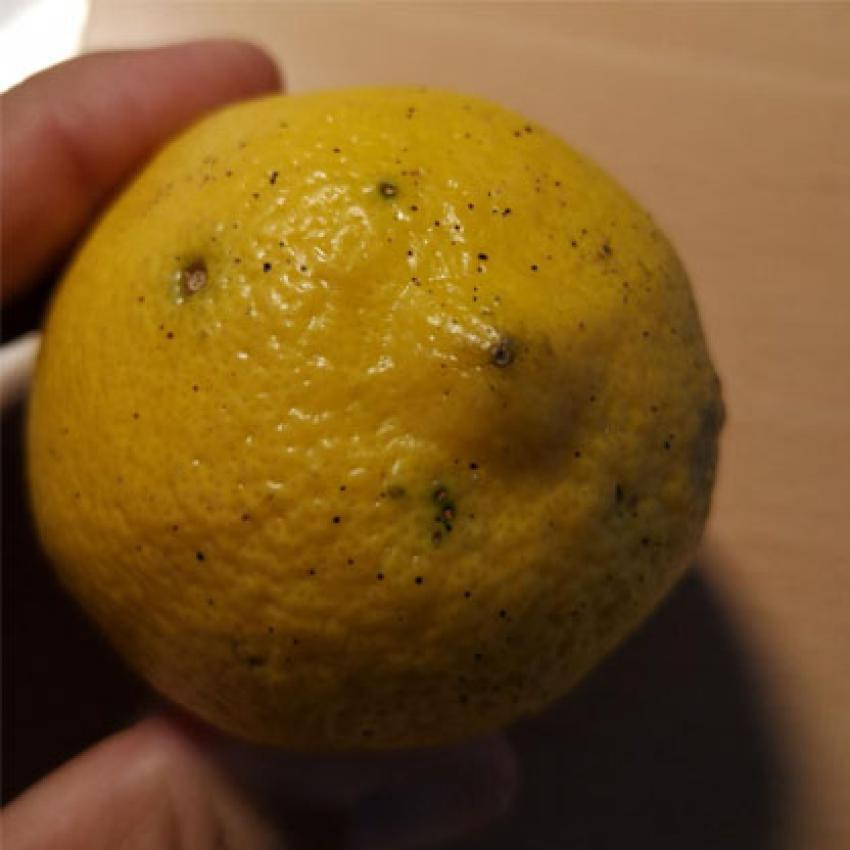Mal estado: (15, 64, 738, 765)
